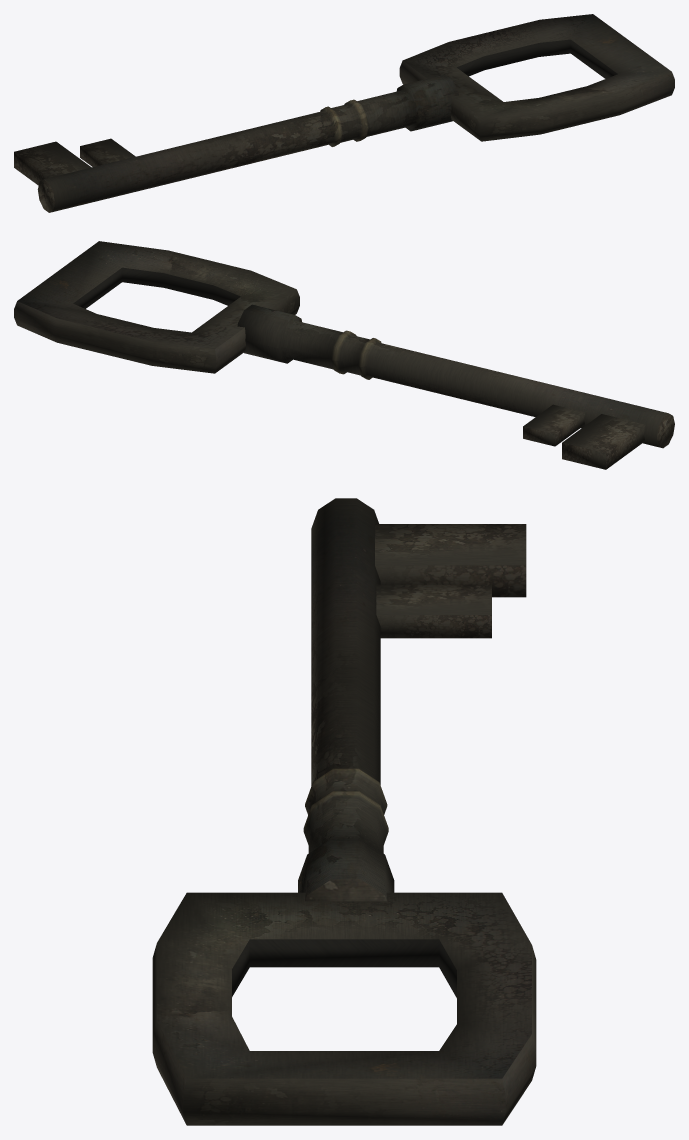
Rendered from FPH_Key.fbx.
The picture shows the model from 3 angles, top to bottom: view 1: azimuth 30°, elevation 25°; view 2: azimuth 150°, elevation 25°; view 3: azimuth 270°, elevation 25°; orthographic projection. The views are drawn at different scales.
Visible parts, largest first — view 1: FPH_key_Diffuse; view 2: FPH_key_Diffuse; view 3: FPH_key_Diffuse.
Boxes of the visible parts, left/top/right/bottom form: FPH_key_Diffuse: left=14, top=14, right=674, bottom=212; FPH_key_Diffuse: left=14, top=241, right=674, bottom=469; FPH_key_Diffuse: left=152, top=498, right=536, bottom=1125.
Size of the model in its own units: 1.1 by 0.0743 by 0.3111.
1 material, 1 textured.
